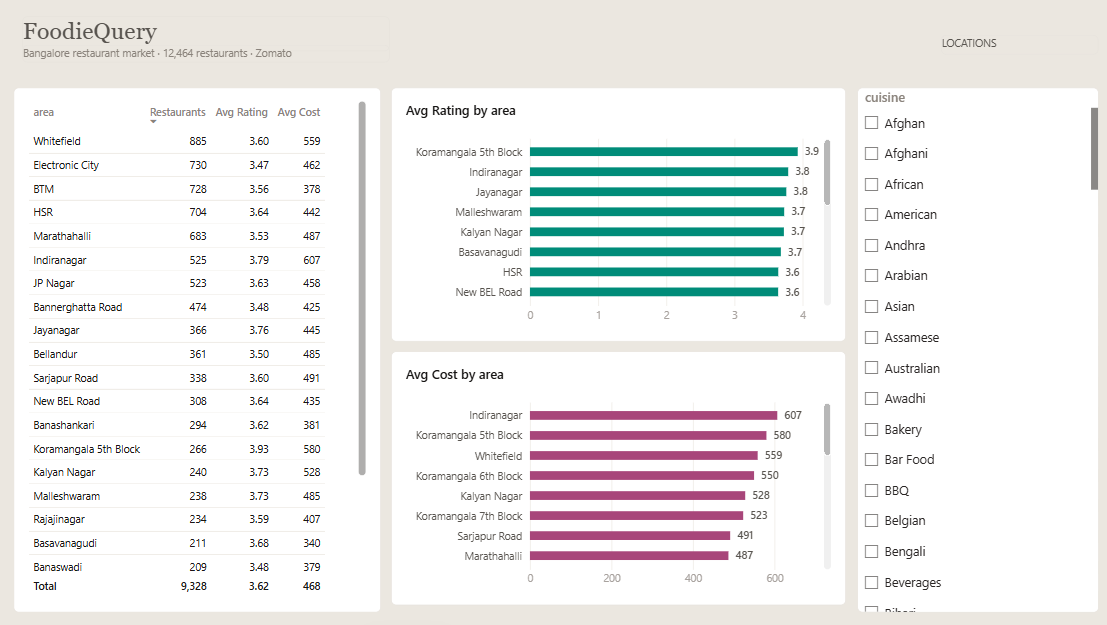

Layout of this report page (visuals, bound fields, positions):
{"tool":"powerbi","page":{"name":"Locations","canvas":[1280,720],"ordinal":2},"visuals":[{"type":"tableEx","fields":{"Values":["vw_bi_restaurants.area","vw_bi_restaurants.Restaurants","vw_bi_restaurants.Avg Rating","vw_bi_restaurants.Avg Cost"]},"box":[20,100,420,600],"z":0},{"type":"clusteredBarChart","fields":{"Category":["vw_bi_restaurants.area"],"Y":["vw_bi_restaurants.Avg Rating"]},"box":[452,100,520,290],"z":1000},{"type":"clusteredBarChart","fields":{"Category":["vw_bi_restaurants.area"],"Y":["vw_bi_restaurants.Avg Cost"]},"box":[452,402,520,290],"z":2000},{"type":"slicer","fields":{"Values":["vw_bi_cuisines.cuisine"]},"box":[984,100,276,600],"z":3000},{"type":"textbox","box":[30,18,420,40],"z":4000},{"type":"textbox","box":[30,52,420,20],"z":5000},{"type":"textbox","box":[1080,40,180,22],"z":6000}]}

Visuals, with their boxes in screenshot pixels (x1, y1, x2, y2), scaled from the page's 1280x720 canvas onto the 1107x625 screenshot:
tableEx - vw_bi_restaurants.area x vw_bi_restaurants.Restaurants: {"x1": 17, "y1": 87, "x2": 381, "y2": 608}
clusteredBarChart - vw_bi_restaurants.area x vw_bi_restaurants.Avg Rating: {"x1": 391, "y1": 87, "x2": 841, "y2": 339}
clusteredBarChart - vw_bi_restaurants.area x vw_bi_restaurants.Avg Cost: {"x1": 391, "y1": 349, "x2": 841, "y2": 601}
slicer - vw_bi_cuisines.cuisine: {"x1": 851, "y1": 87, "x2": 1090, "y2": 608}
textbox: {"x1": 26, "y1": 16, "x2": 389, "y2": 50}
textbox: {"x1": 26, "y1": 45, "x2": 389, "y2": 62}
textbox: {"x1": 934, "y1": 35, "x2": 1090, "y2": 54}
